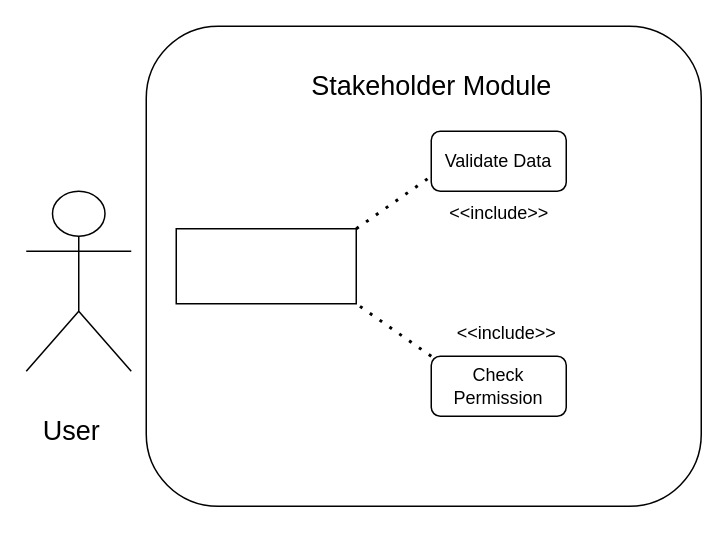
This 728x533 diagram has some shape labels left out. Here are the shapes that lost their labels. From the top down, the box of each, then its label:
(25, 190, 131, 371): Actor
(175, 227, 356, 304): add stakeholder
